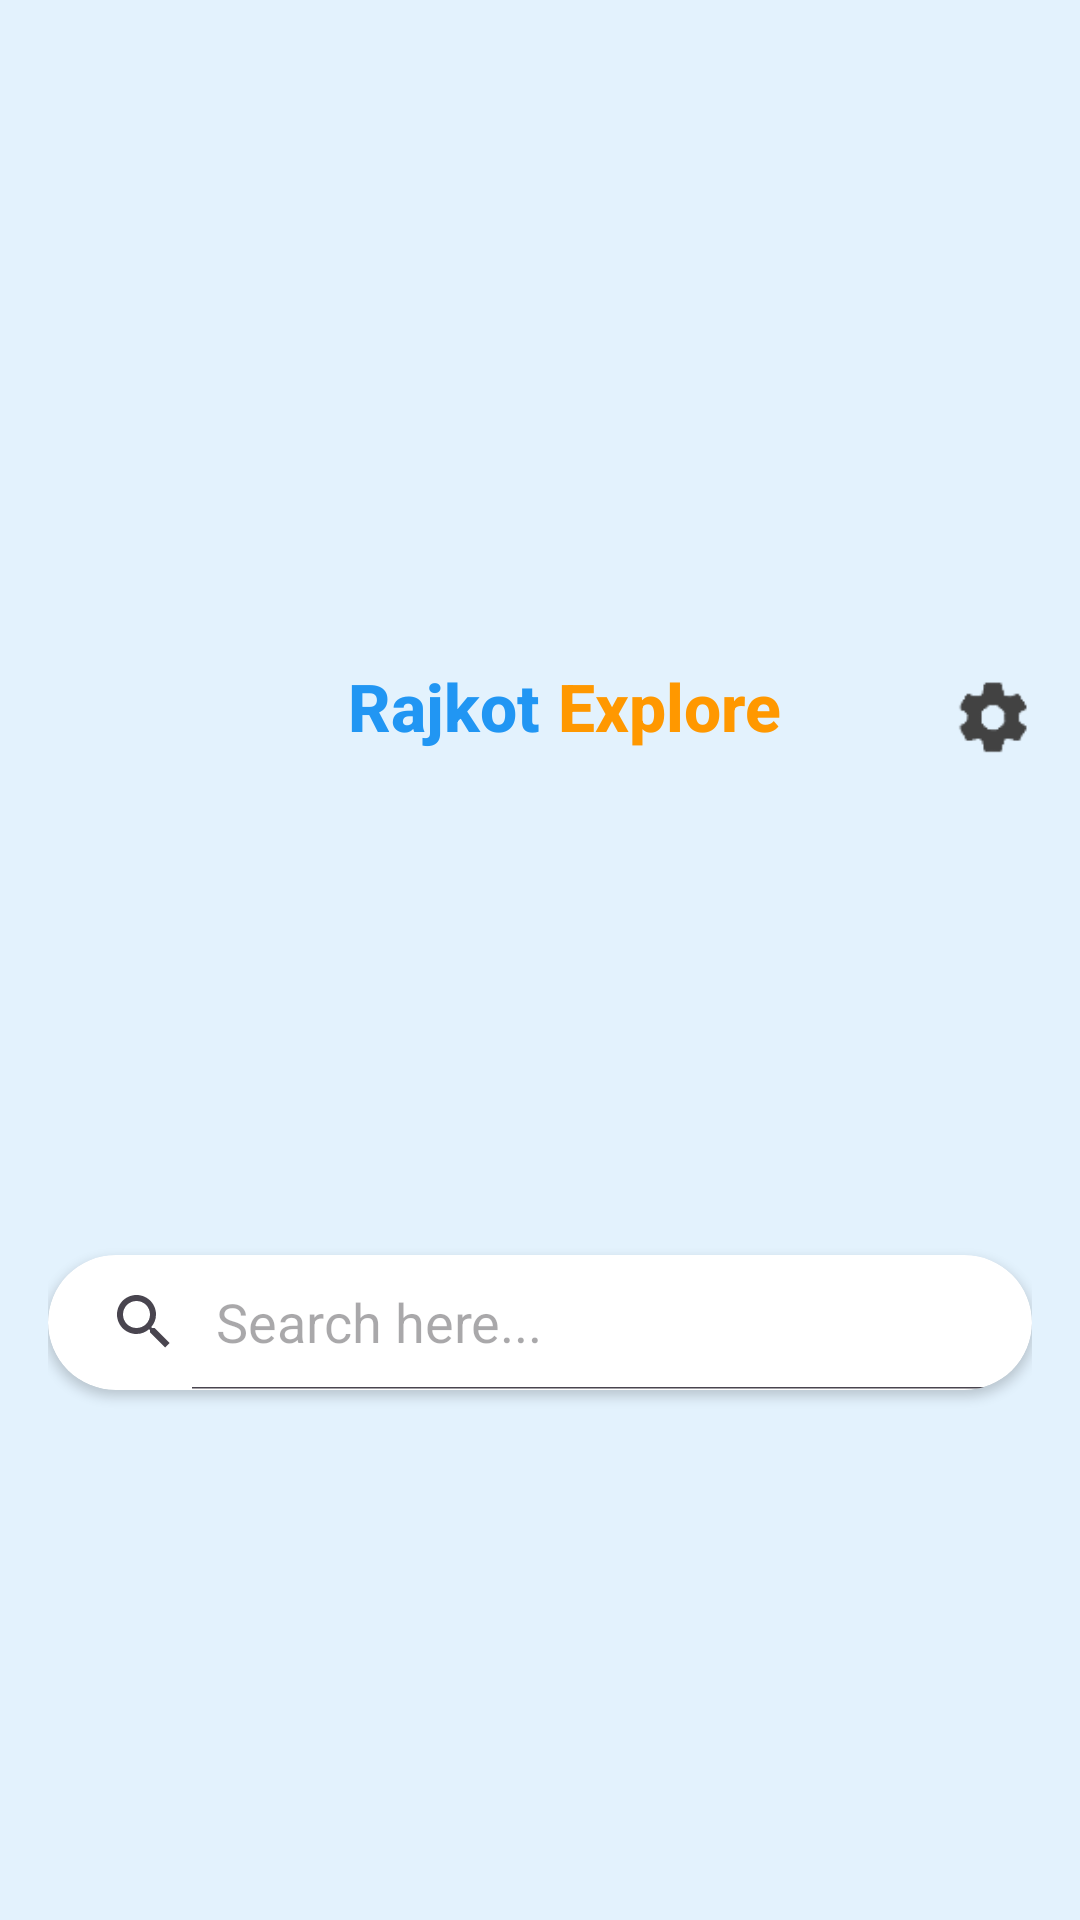

Icons on this 1080 x 1920 Android screen, each with its box as (x1, y1, x2, y2):
Settings: (959, 682, 1027, 752)
